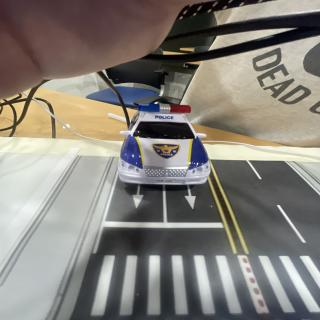Police_car: (118, 104, 210, 185)
